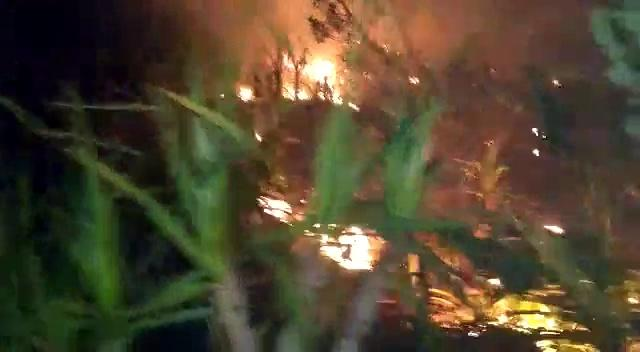fire: (286, 60, 343, 105), (331, 229, 373, 274)
